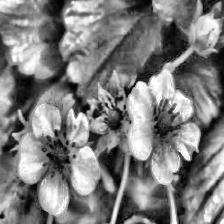Blossom Blight: (40, 128, 79, 182), (147, 97, 183, 148), (96, 92, 134, 140)
